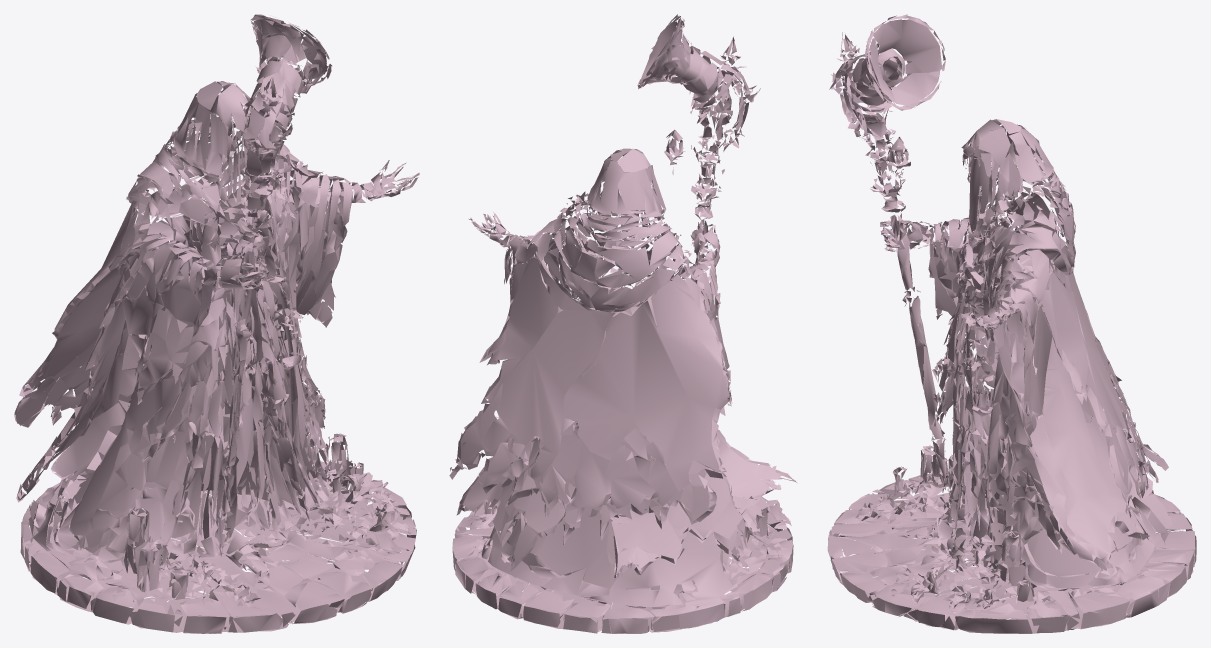
Rendered from throne-echo.glb.
3 views of the same model, side by side, from view 1: azimuth 30°, elevation 25°; view 2: azimuth 150°, elevation 25°; view 3: azimuth 270°, elevation 25° (orthographic). The views are drawn at different scales.
Parts seen in each view (by area): view 1: model; view 2: model; view 3: model.
Boxes of the visible parts, left/top/right/bottom form: model: left=14, top=14, right=419, bottom=633; model: left=449, top=14, right=797, bottom=633; model: left=827, top=14, right=1196, bottom=633.
Bounding box in the file's own units: 1.28 × 1.91 × 1.18.
